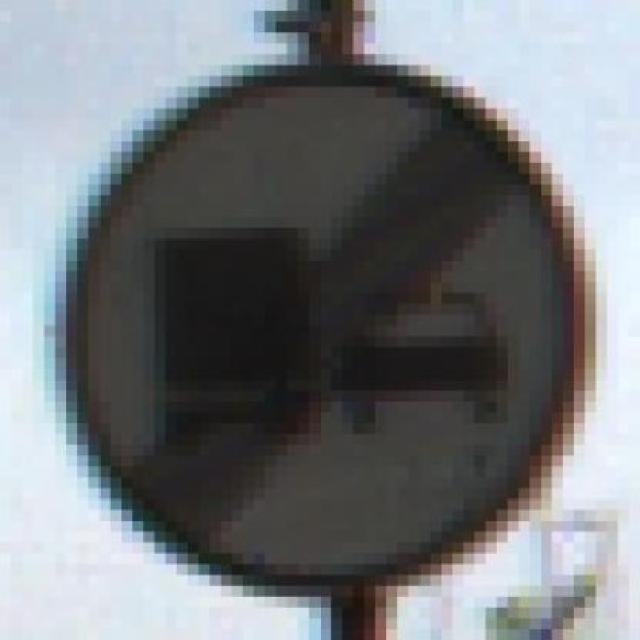Overtaking by trucks is prohibited: (33, 43, 618, 597)
